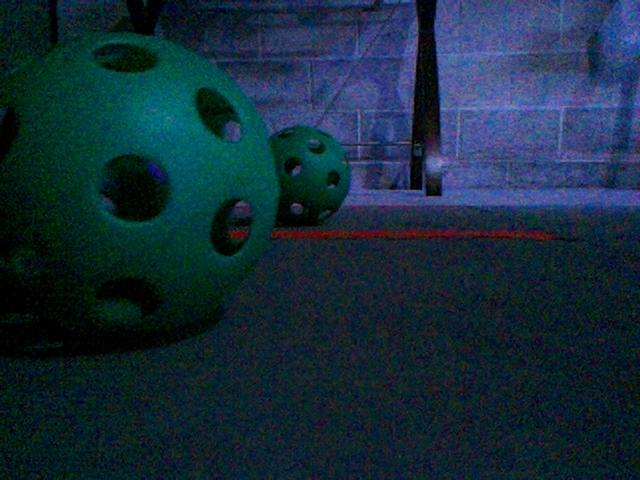Green: (0, 29, 290, 347), (267, 124, 352, 227)
